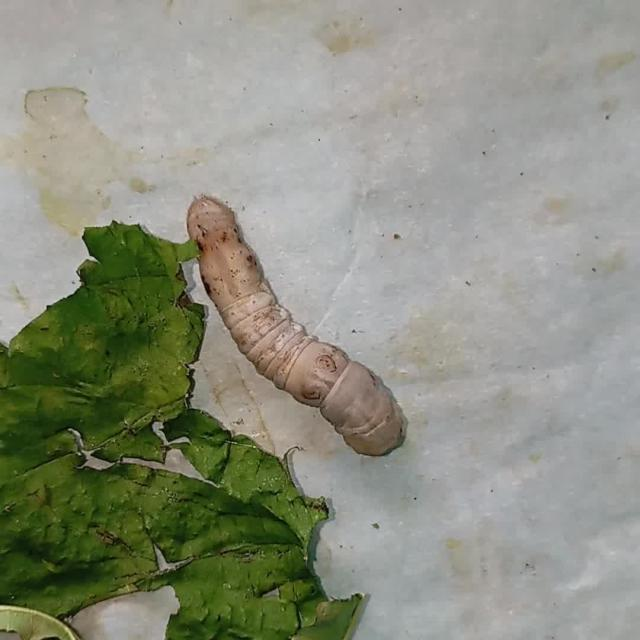Grasserie: (169, 174, 443, 476)
